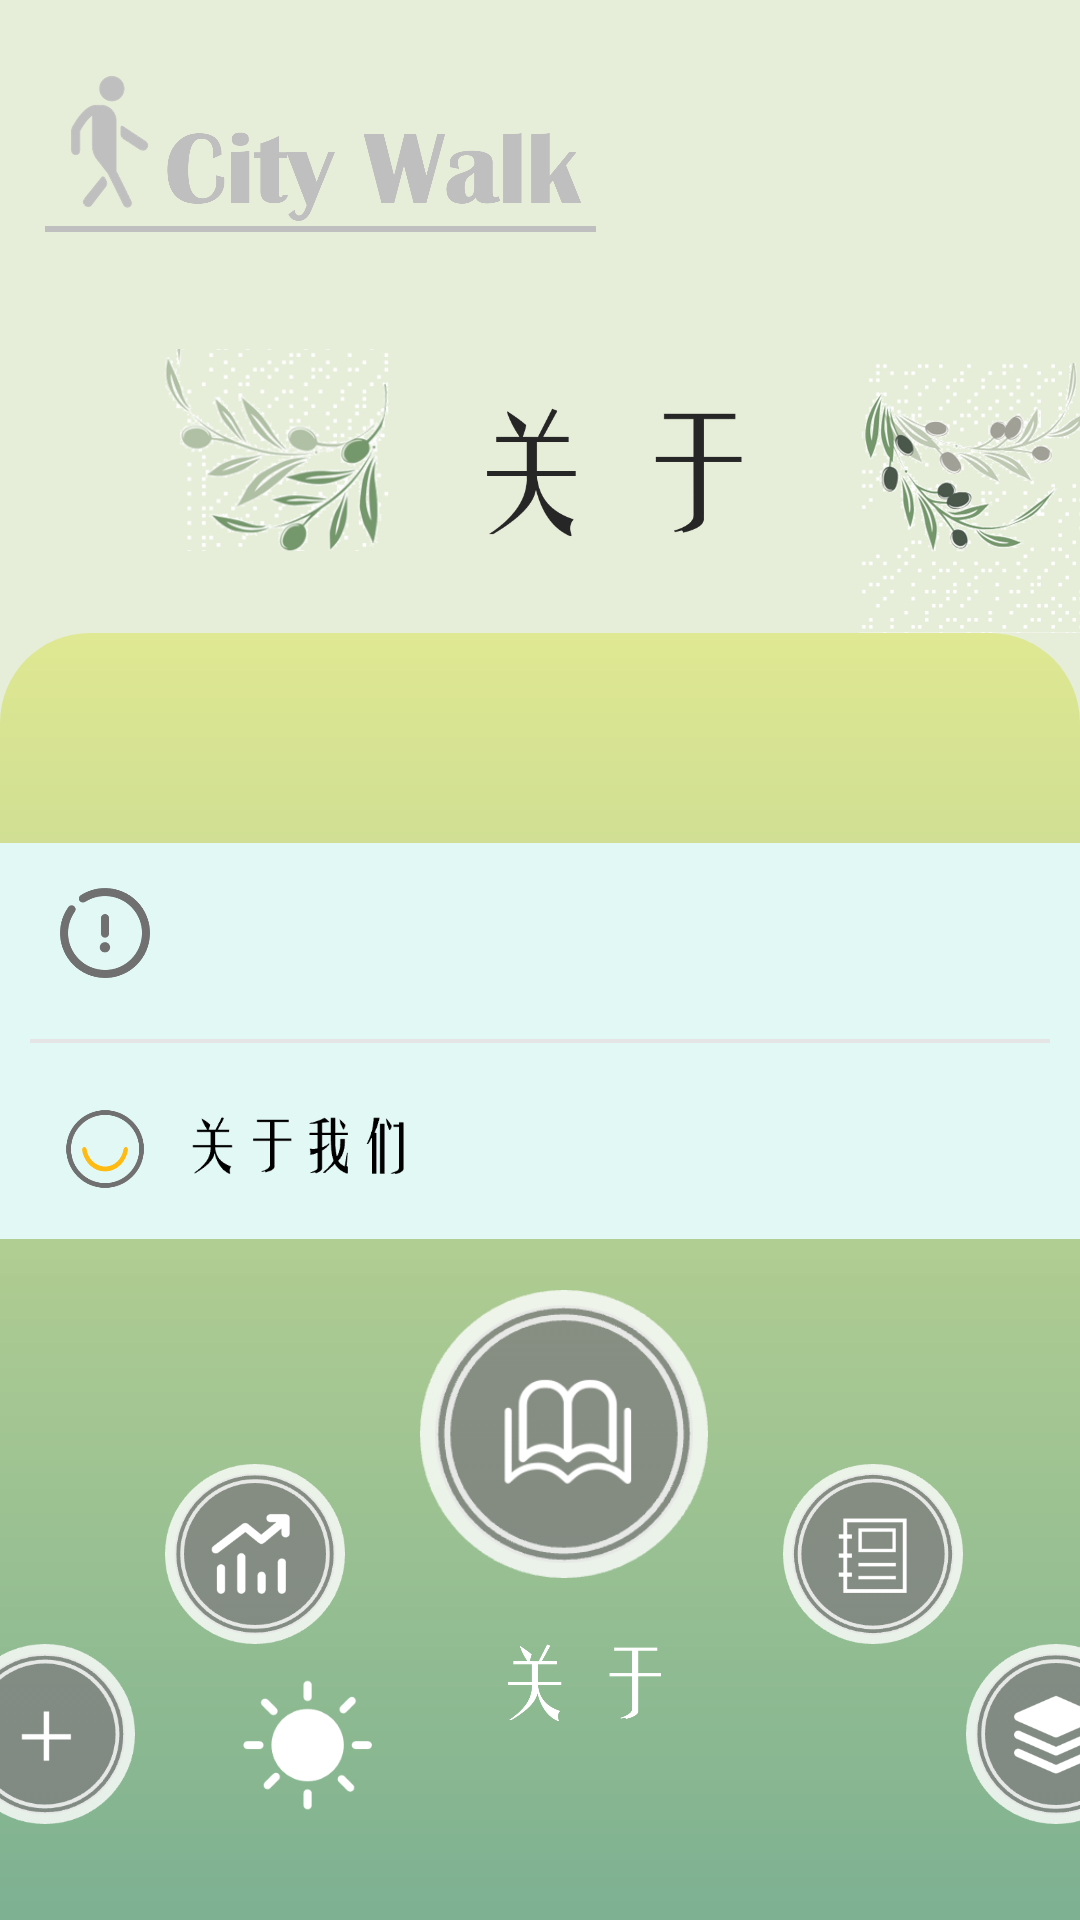

Icon click points for this 1080x1920 phone screenshot, format (x=x, y=y):
ANALYSE: (x=255, y=1554)
DAIRY: (x=873, y=1554)
sun: (x=307, y=1745)
